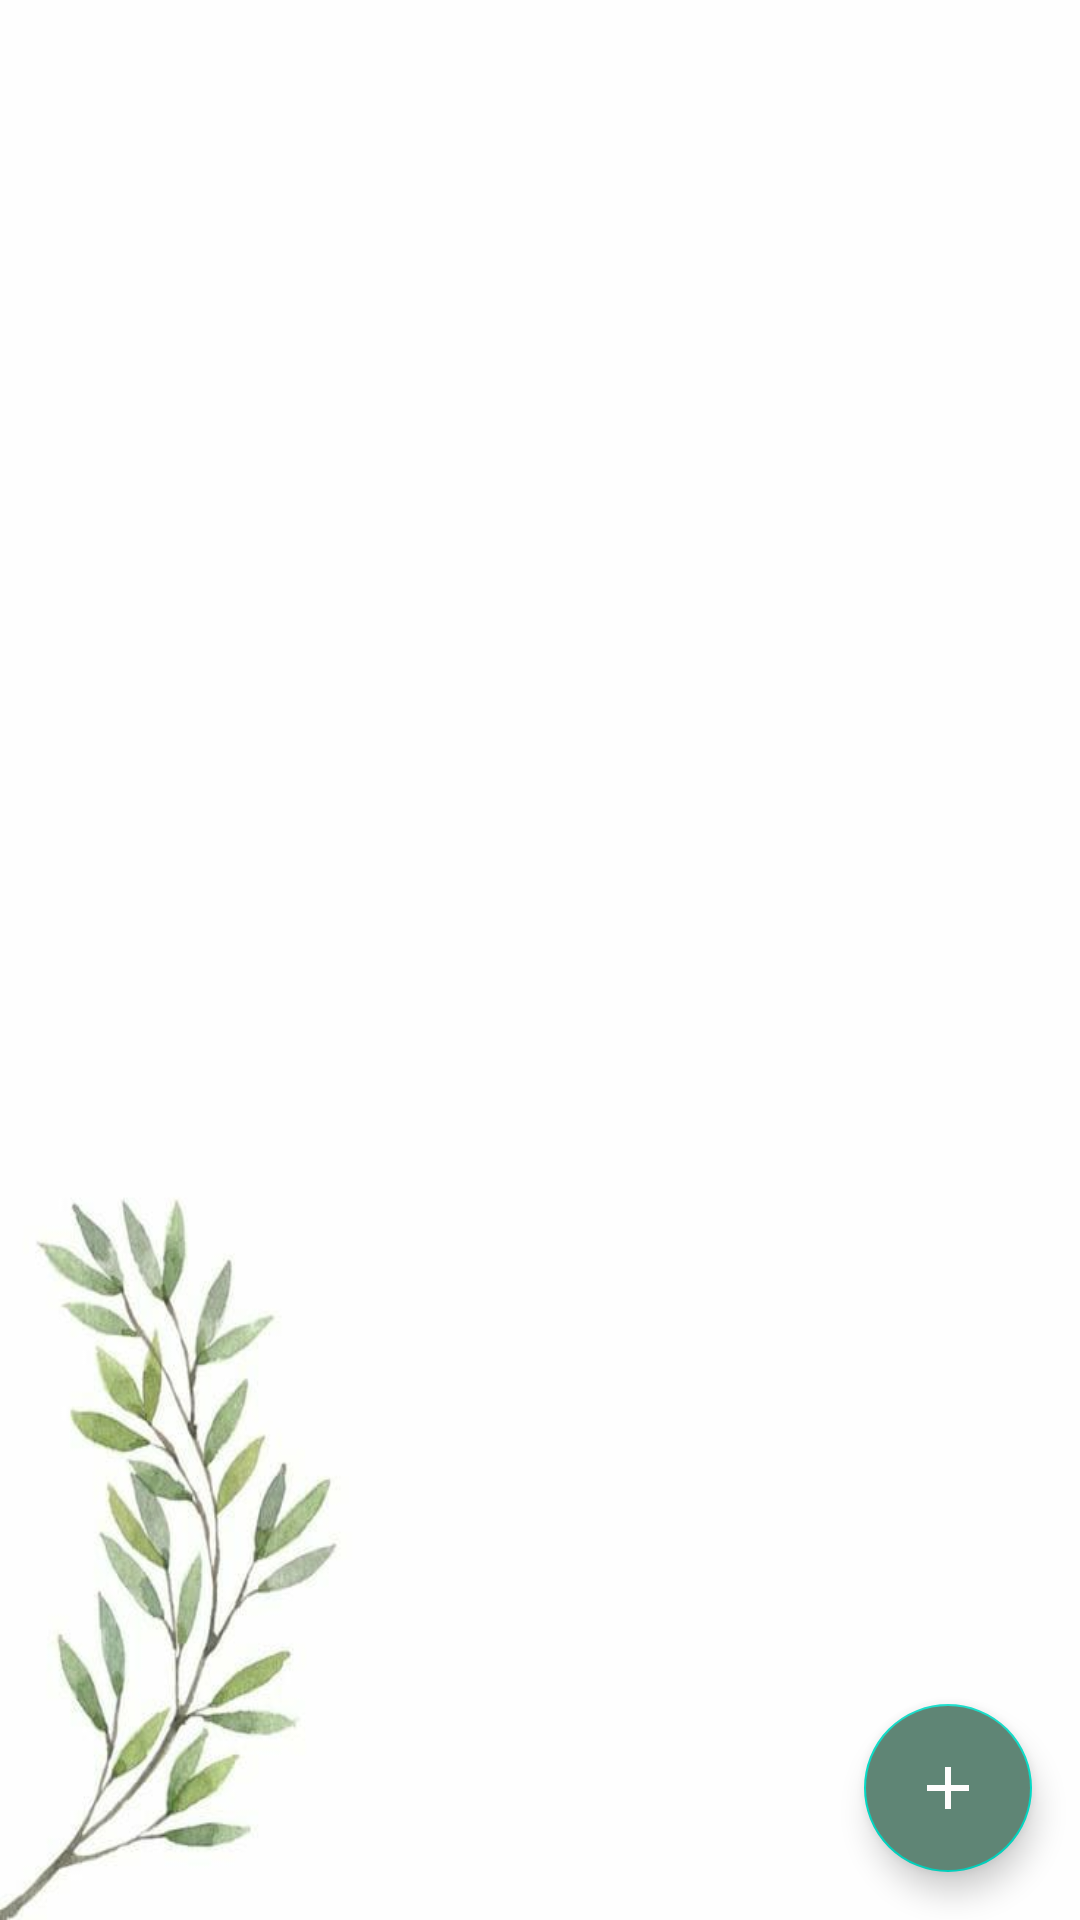

Named icons in this screenshot (1080 × 1920) and their bounding boxes, (left=x1, top=y1, right=x2, bottom=y2):
plant add: (left=864, top=1704, right=1032, bottom=1872)
